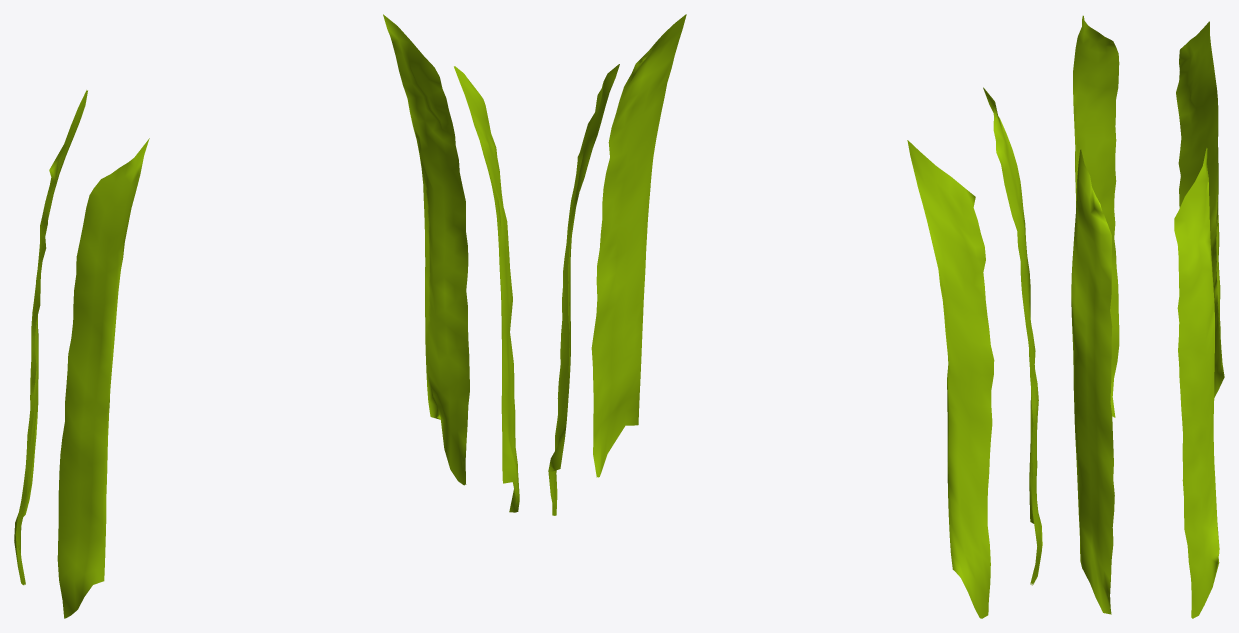
File: tassels.glb
The picture shows the model from 3 angles, left to right: view 1: azimuth 30°, elevation 25°; view 2: azimuth 150°, elevation 25°; view 3: azimuth 270°, elevation 25°; orthographic projection. The views are drawn at different scales.
Visible parts, largest first — view 1: tassels; view 2: tassels; view 3: tassels.
Part boxes in pixels (x1,y1,x2,y2): tassels: [14, 14, 519, 618]; tassels: [548, 14, 1042, 618]; tassels: [1071, 15, 1224, 618].
Bounding box in the file's own units: 2.12 × 2.14 × 0.679.
